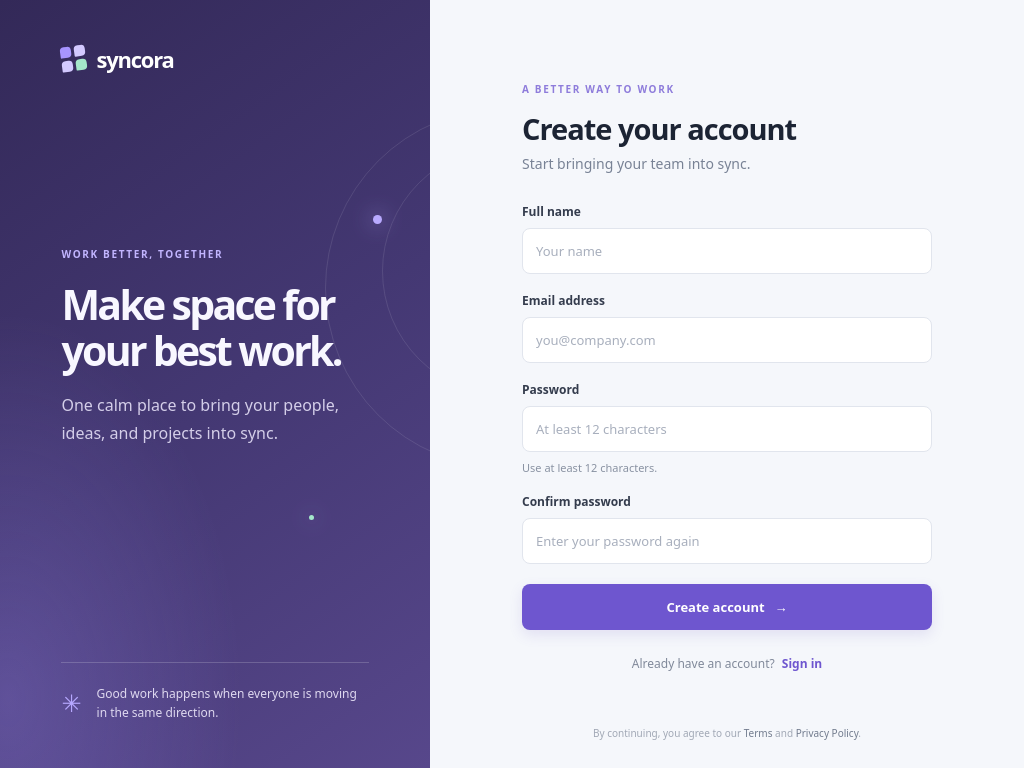
Test: authentication pages and routes › validates registration confirmation before submitting
This screenshot has width=1024, height=768.
Type "Test User" into the field labelled "Full name".
click(727, 251); type("Test User")  # box [522, 228, 932, 274]
Type "test@example.com" into the field labelled "Email address".
click(727, 340); type("test@example.com")  # box [522, 317, 932, 363]
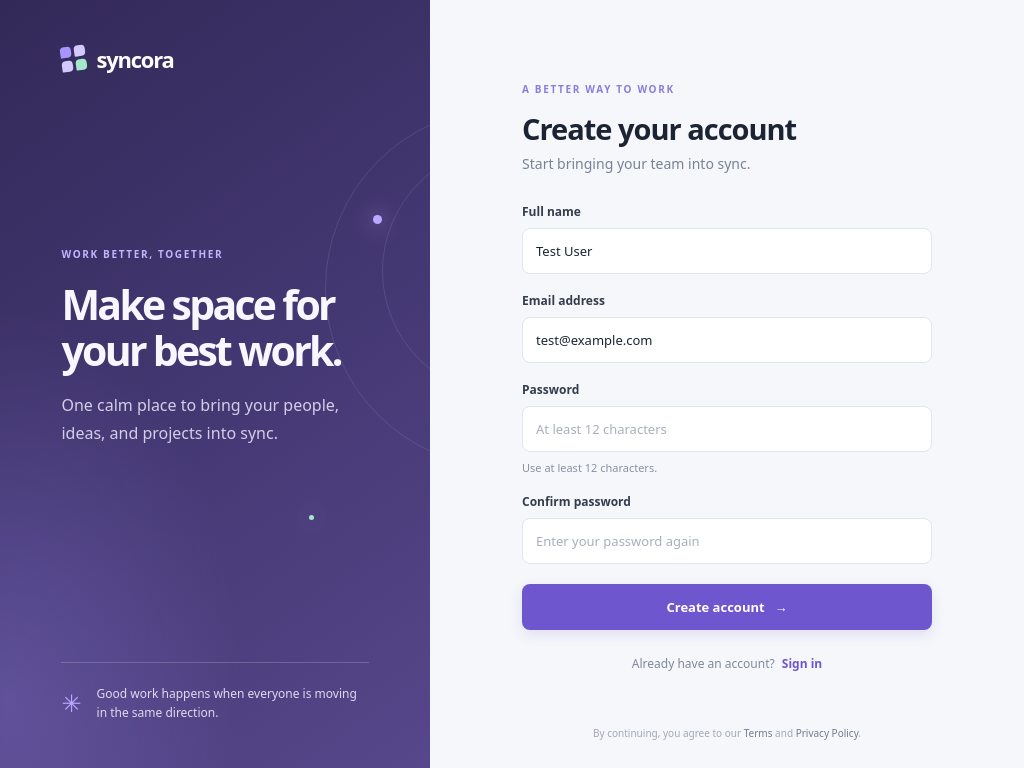
Type "StrongPassword123" into the password field labelled "Password".
click(727, 429); type("StrongPassword123")  # box [522, 406, 932, 452]
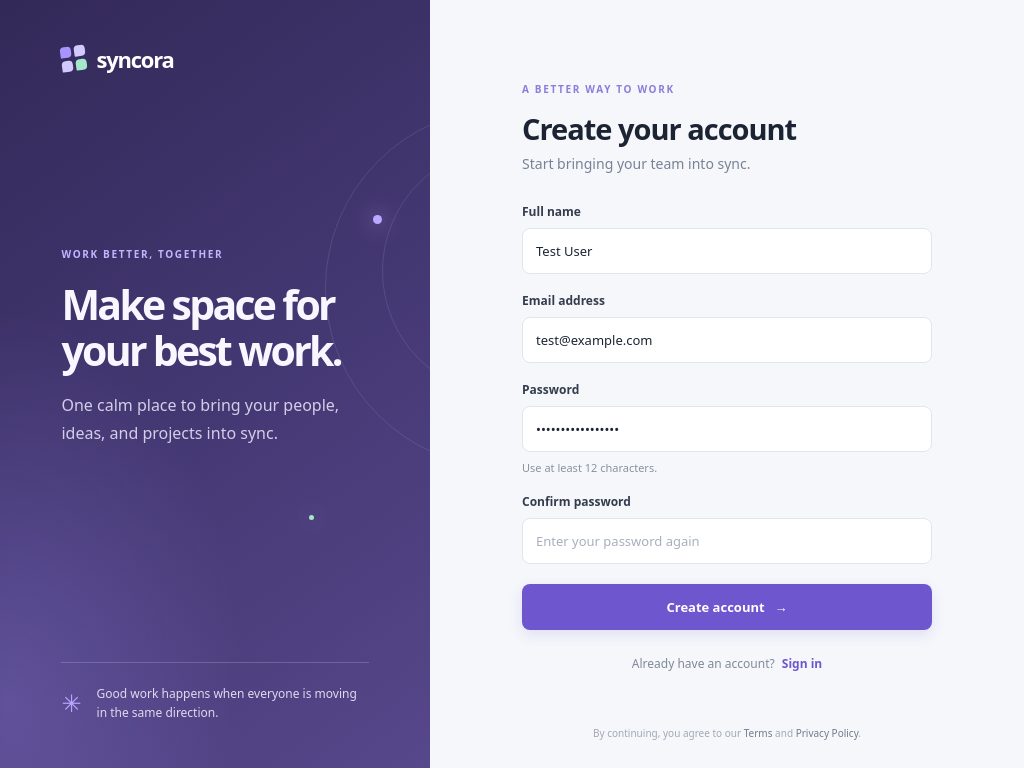
Type "DifferentPassword123" into the password field labelled "Confirm password".
click(727, 541); type("DifferentPassword123")  # box [522, 518, 932, 564]
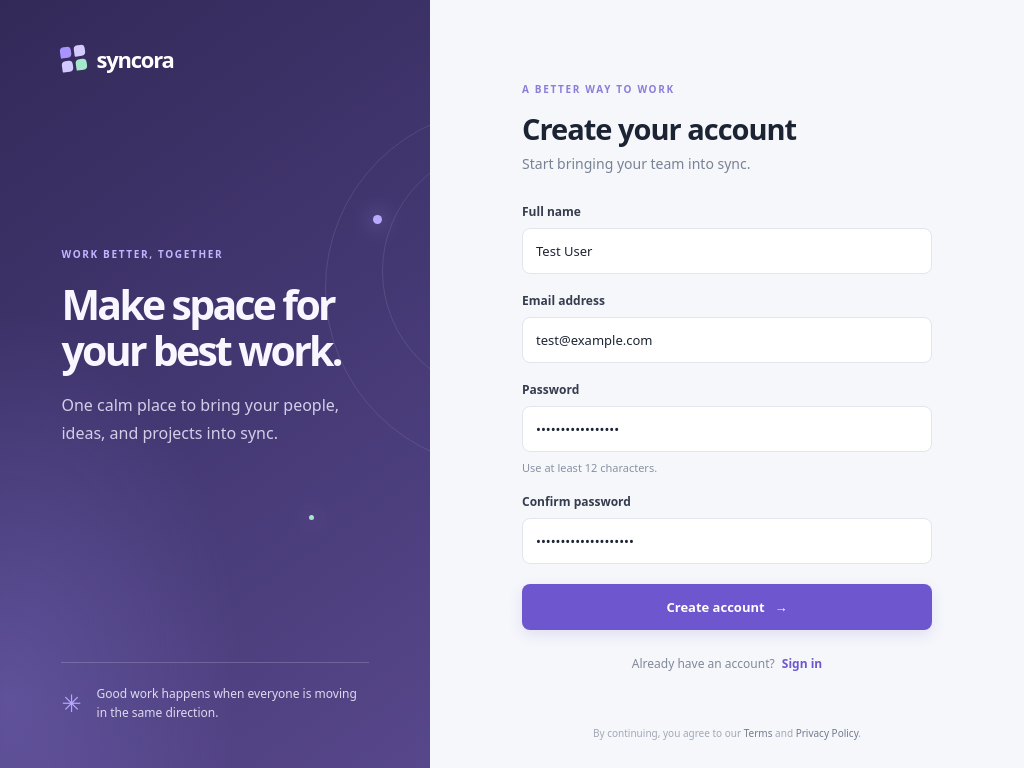
Click the button "Create account →".
click(727, 607)  # box [522, 584, 932, 630]
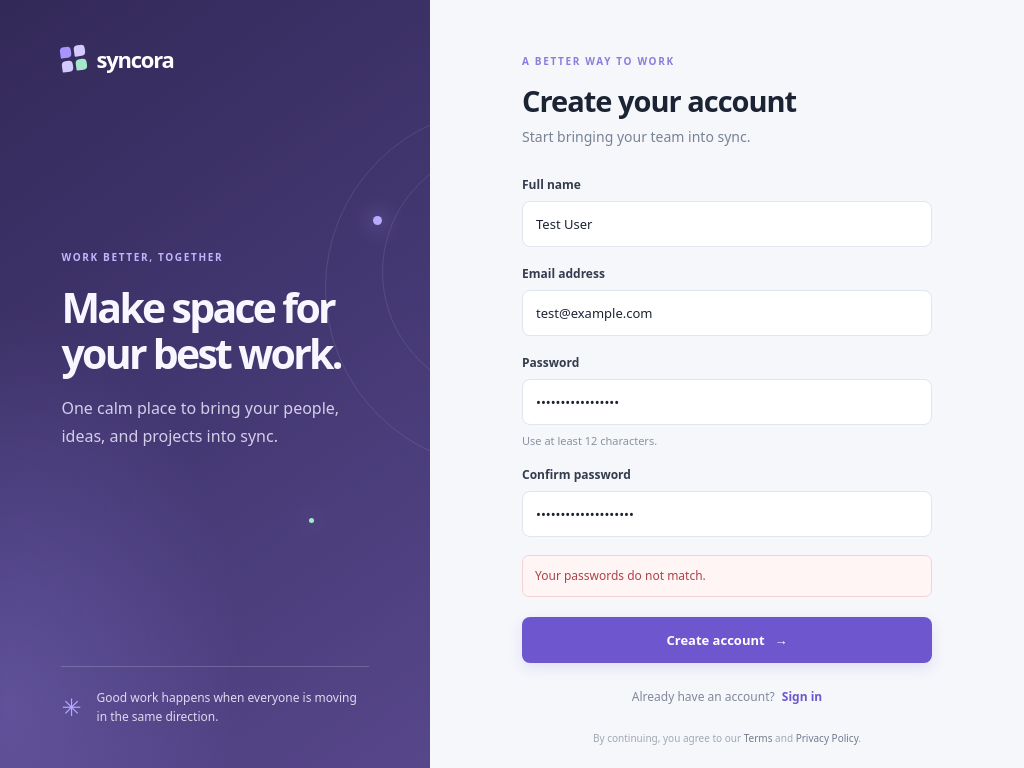
expect the message reads "Your passwords do not match.": met, box [535, 567, 706, 584]
Type "StrongPassword123" into the password field labelled "Confirm password".
click(727, 514); type("StrongPassword123")  # box [522, 491, 932, 537]
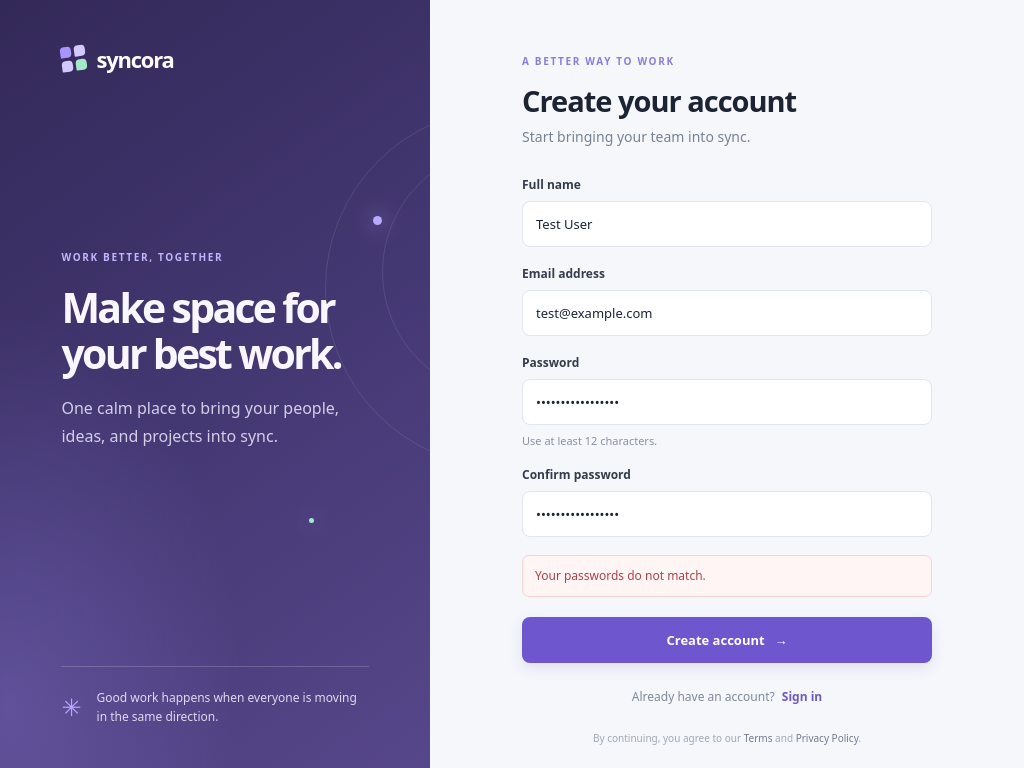
Click the button "Create account →".
click(727, 640)  # box [522, 617, 932, 663]
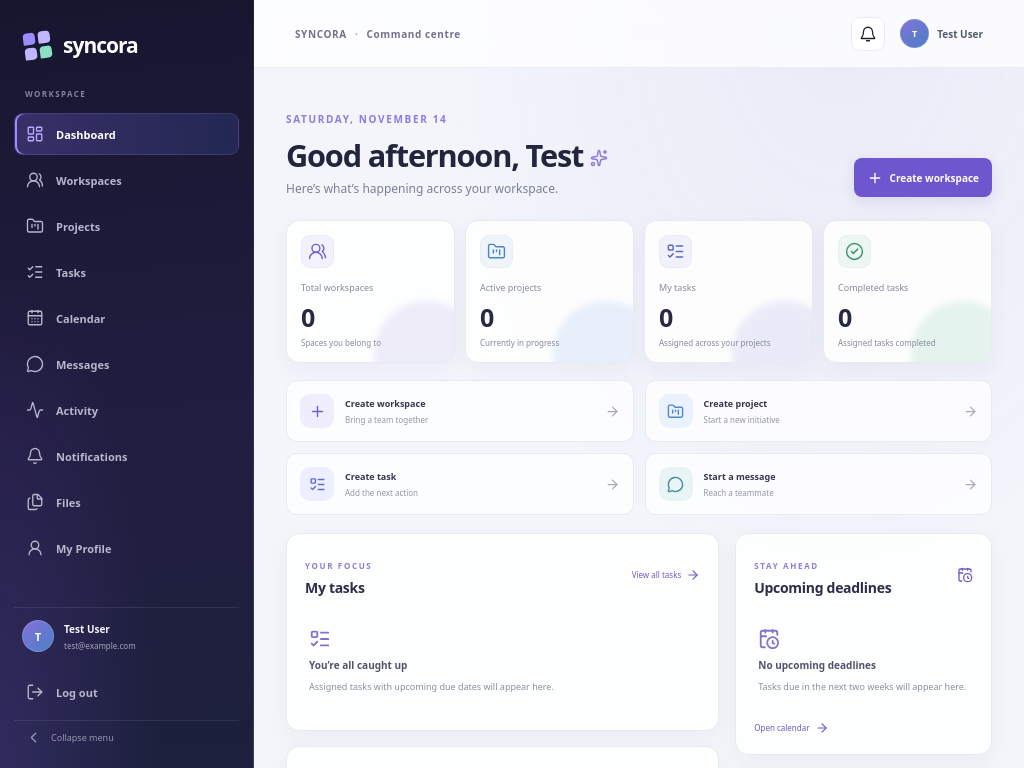
expect the heading "Good afternoon, Test" is shown: met, box [286, 137, 608, 173]
